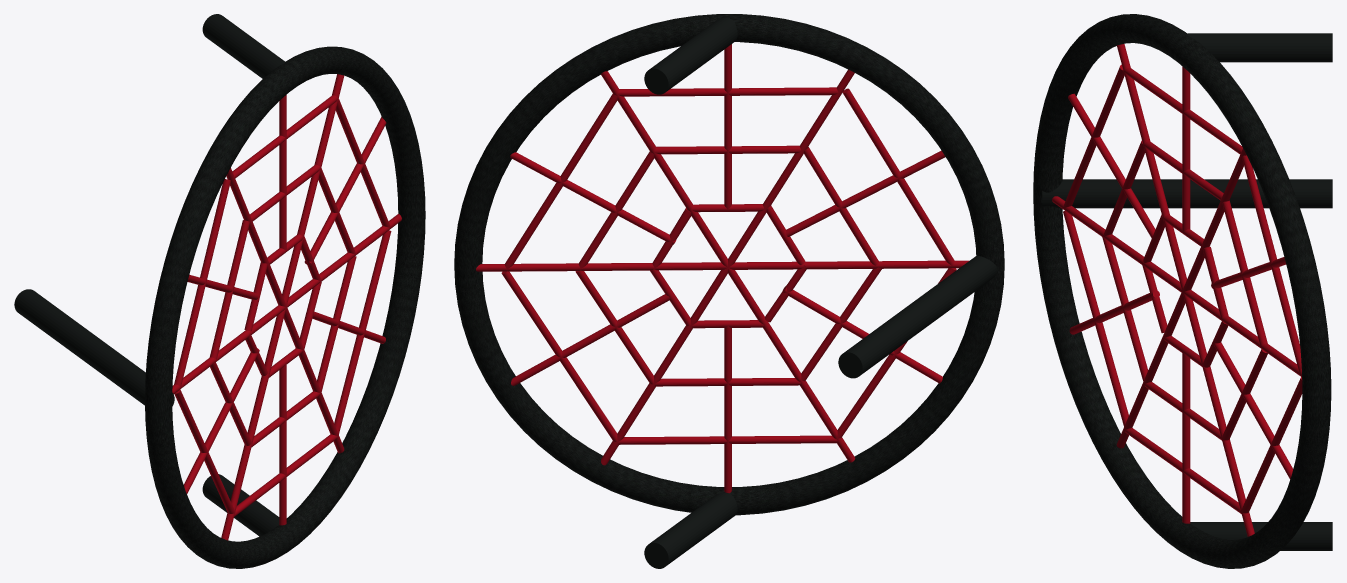
Rendered from канатный комплекс без подложки.glb.
3 views of the same model, side by side, from view 1: azimuth 30°, elevation 25°; view 2: azimuth 150°, elevation 25°; view 3: azimuth 270°, elevation 25° (orthographic). The views are drawn at different scales.
Parts seen in each view (by area): view 1: Тор; view 2: Тор; view 3: Тор.
Boxes of the visible parts, x1,y1,x2,y2 form: Тор: (14, 14, 425, 568); Тор: (454, 14, 1004, 568); Тор: (1033, 14, 1332, 568).
Size of the model in its own units: 3.4 by 3.9 by 2.05.
2 materials, 2 textured.
